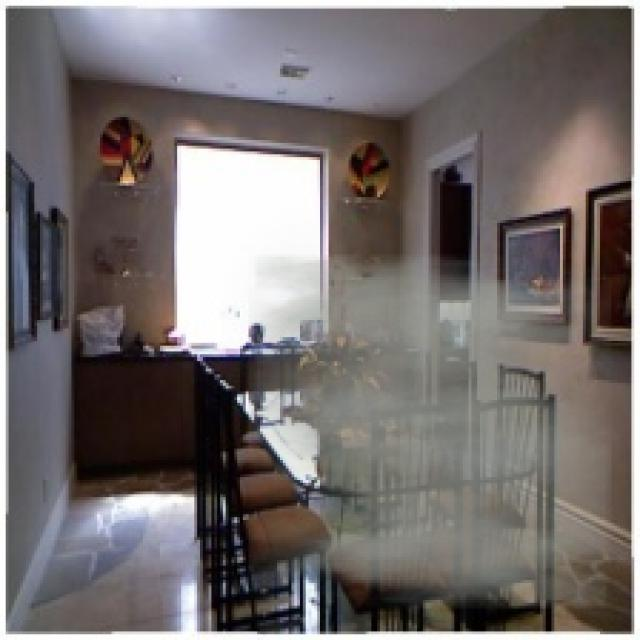smoke: (248, 254, 612, 609)
